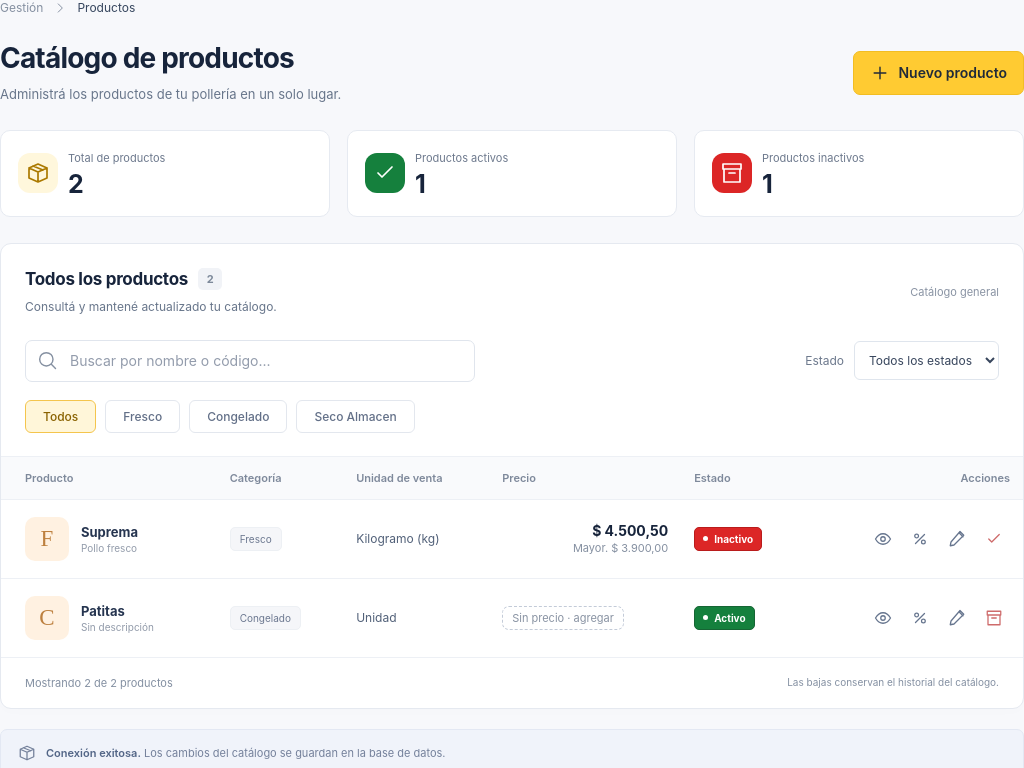
Test: Catálogo de productos conectado a la API › conserva el estado inactivo si falla la reactivación
Click the button named "Reactivar Suprema".
click(994, 539)  # box 978,523 -> 1010,555
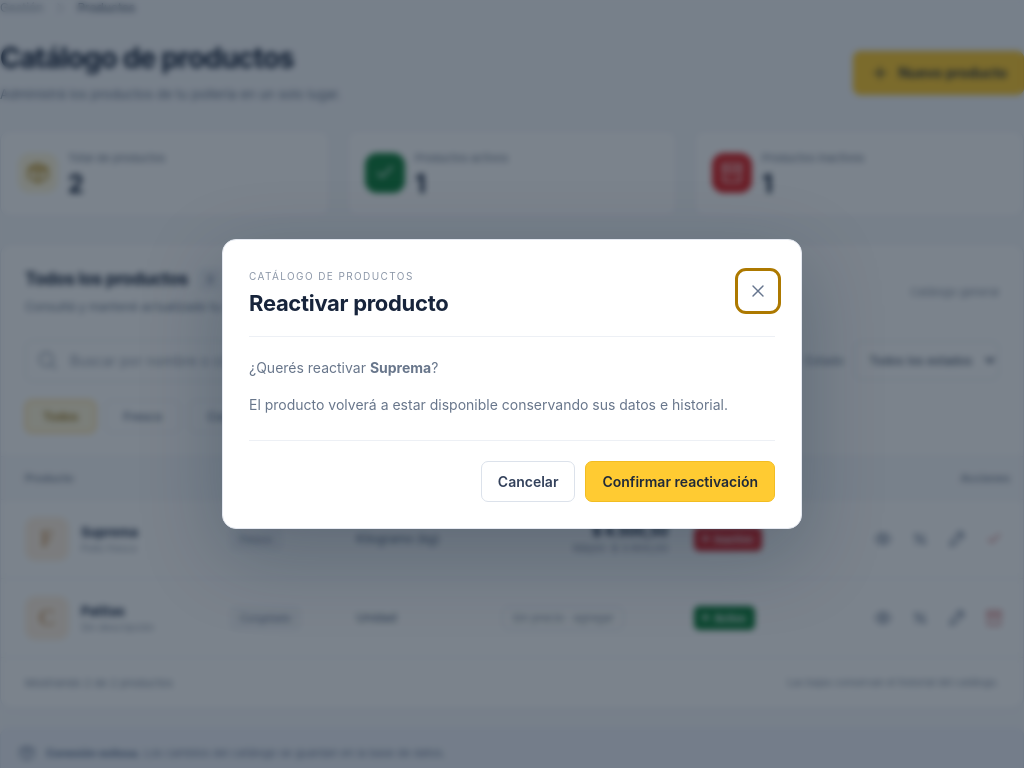
Click the button "Confirmar reactivación".
click(680, 481)  # box 586,461 -> 775,502
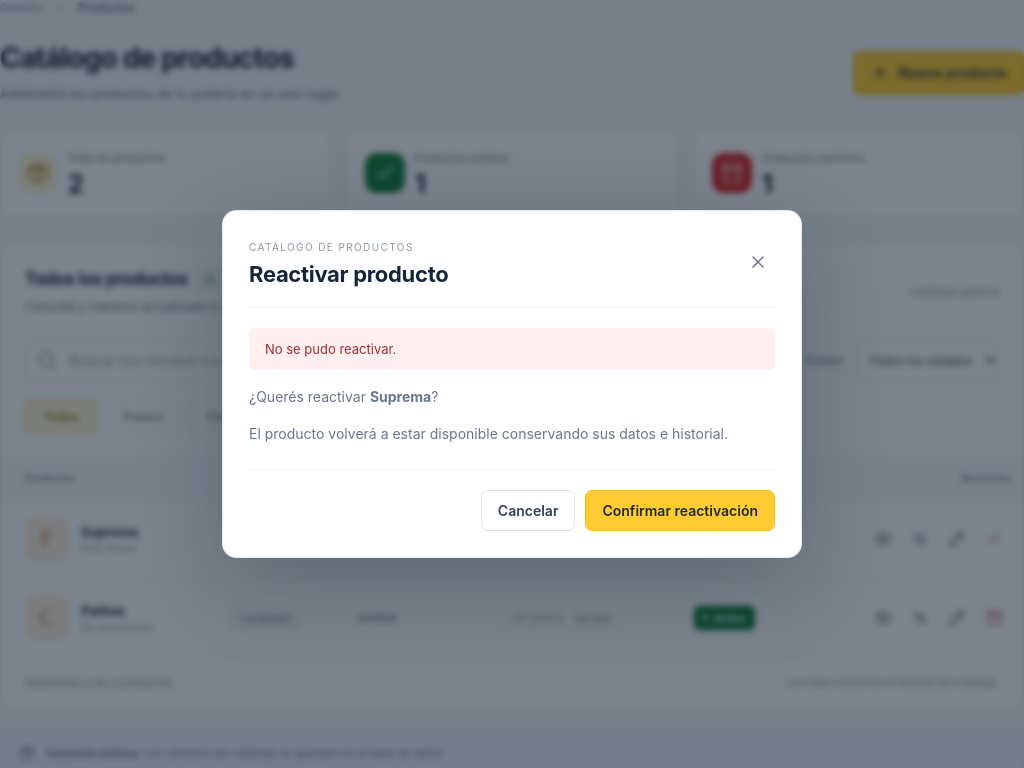
Now the dialog is shown, box 222,210 -> 802,558
Now the message reads "No se pudo reactivar.", box 265,341 -> 396,357
